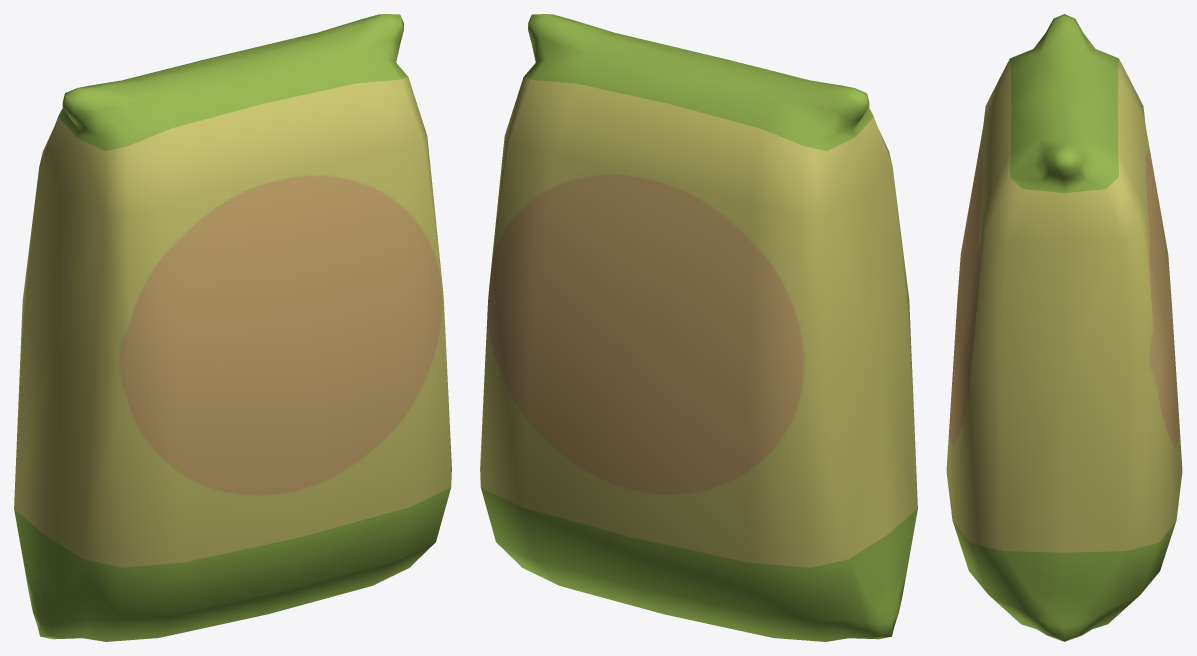
File: CabbageSeeds.fbx
3 renders of one model, left to right at view 1: azimuth 30°, elevation 25°; view 2: azimuth 150°, elevation 25°; view 3: azimuth 270°, elevation 25°, orthographic. The views are drawn at different scales.
Visible parts, largest first — view 1: BagOfStuff; view 2: BagOfStuff; view 3: BagOfStuff.
Boxes of the visible parts, x1,y1,x2,y2 form: BagOfStuff: (14,14,451,641); BagOfStuff: (480,14,917,641); BagOfStuff: (946,14,1182,641).
Bounding box in the file's own units: 0.6883 × 0.9522 × 0.4158.
Materials: 1 (1 with a texture image).
